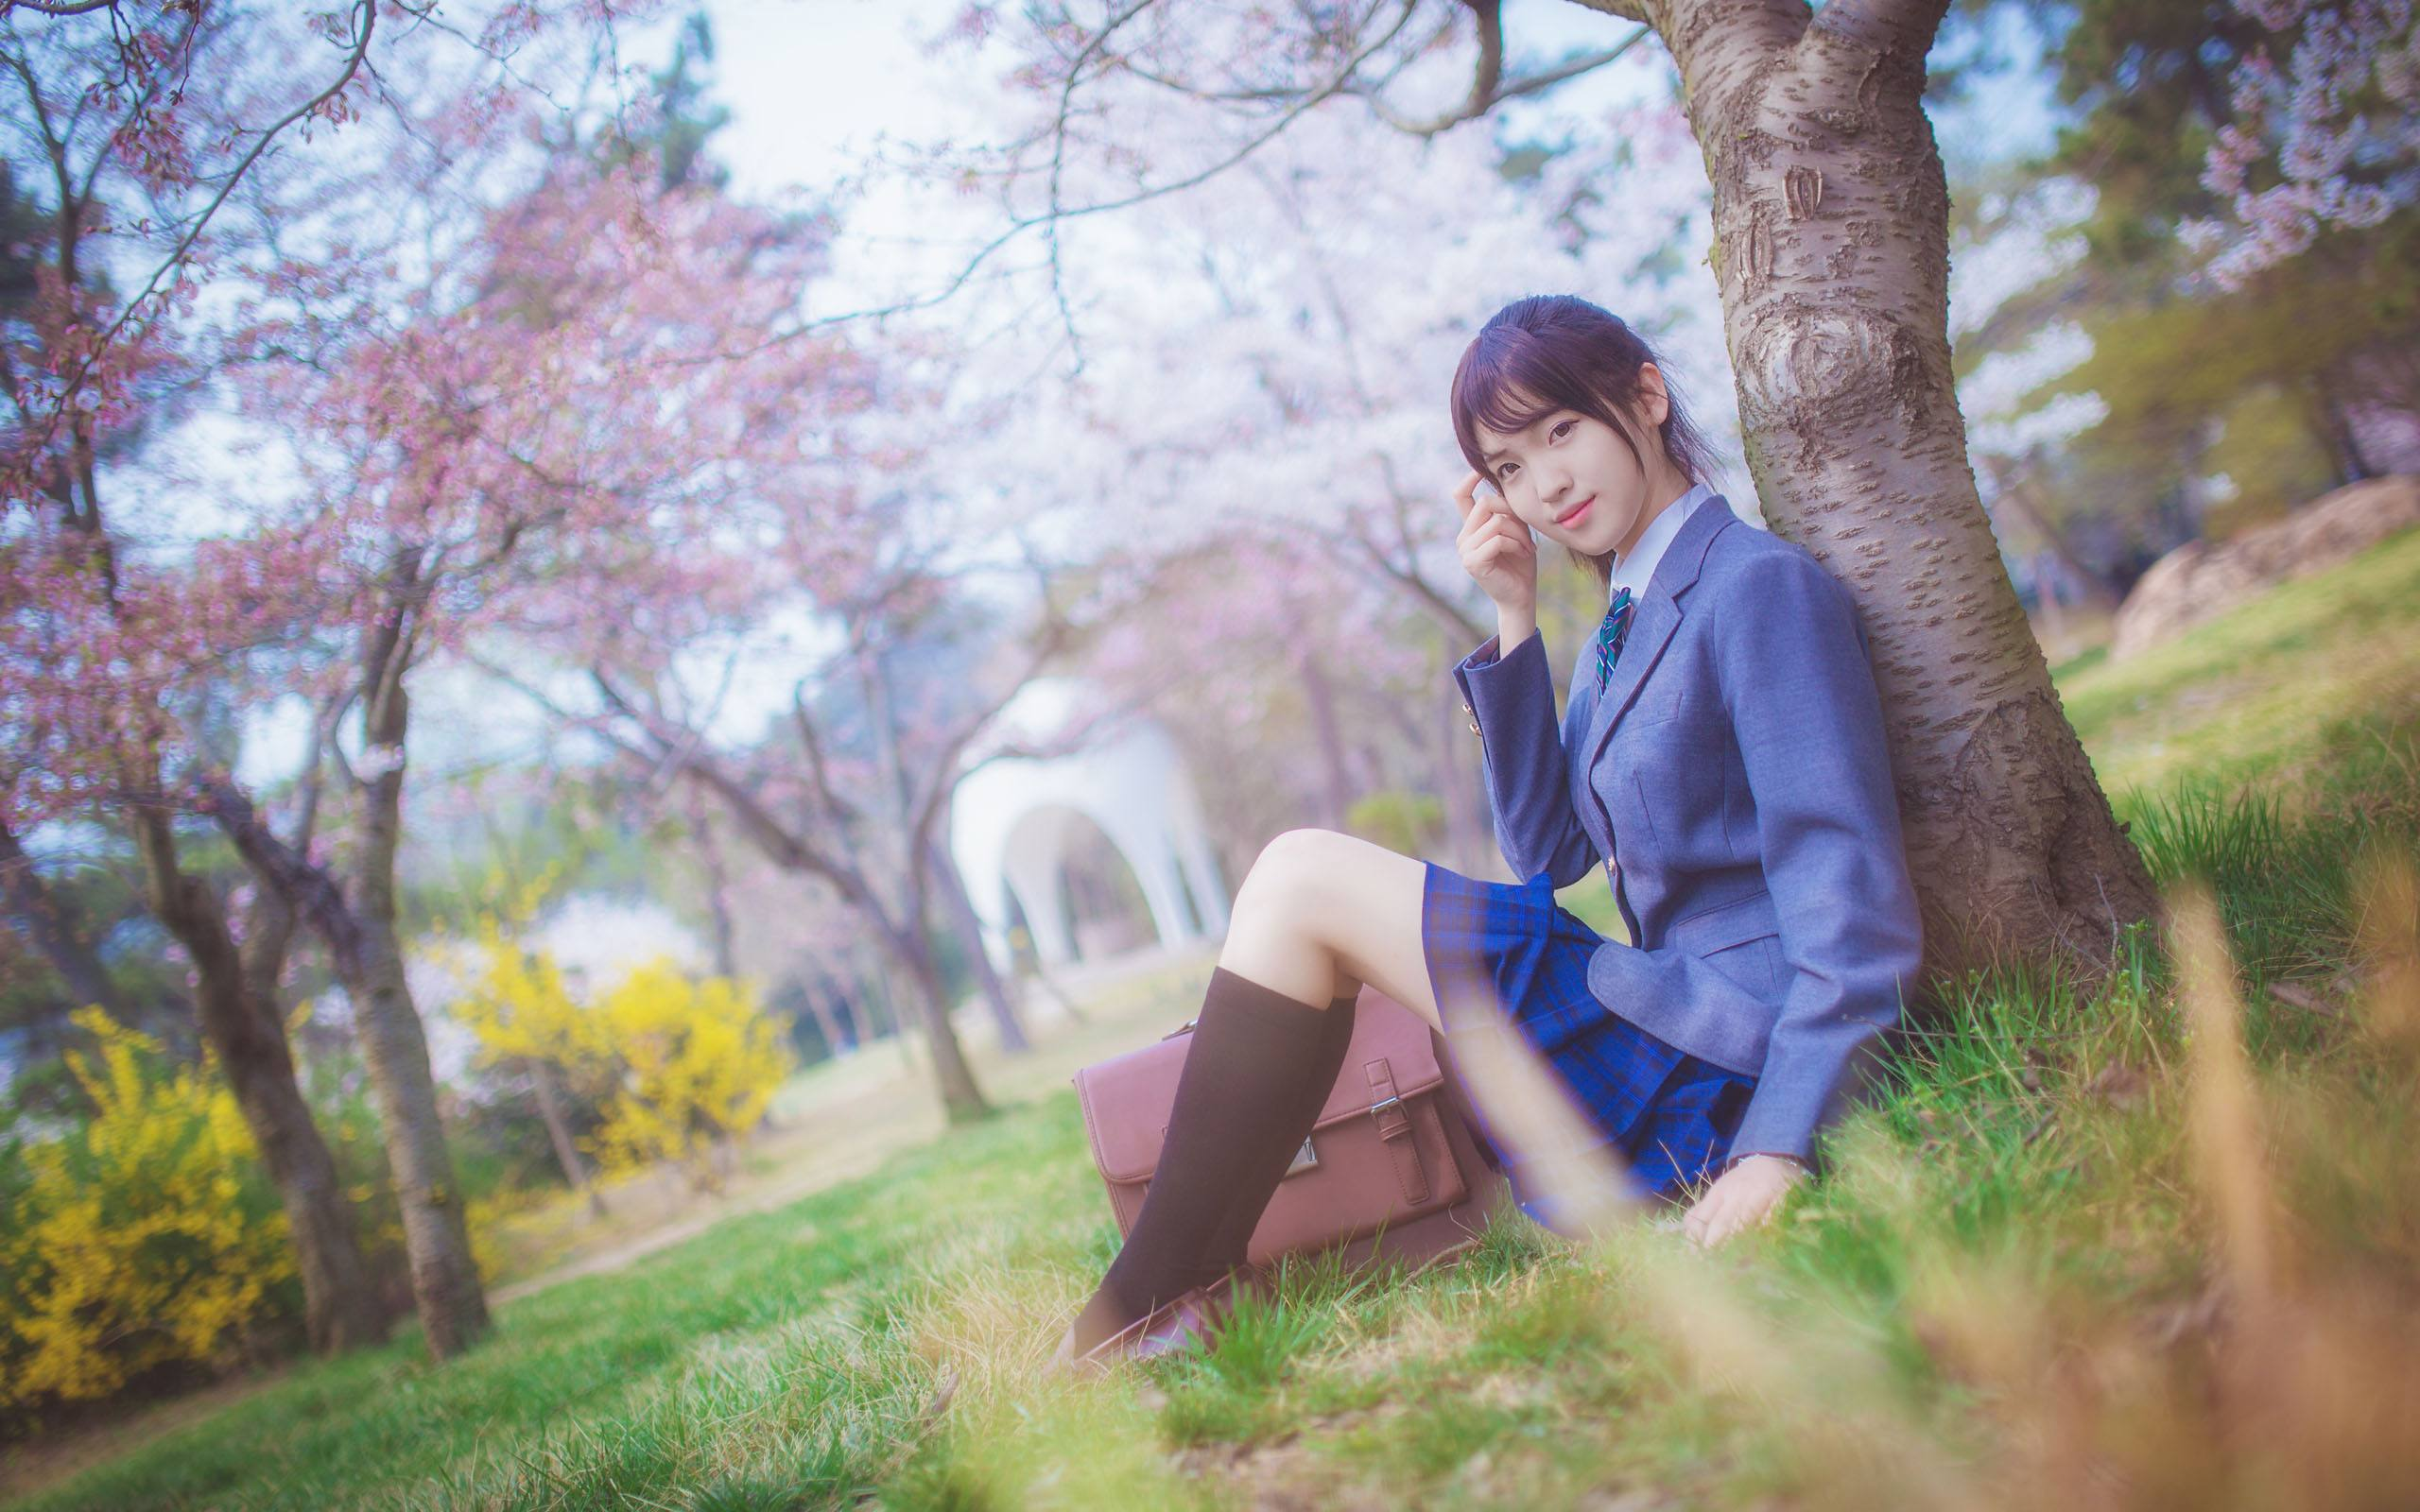person: (1092, 294, 2039, 1231)
